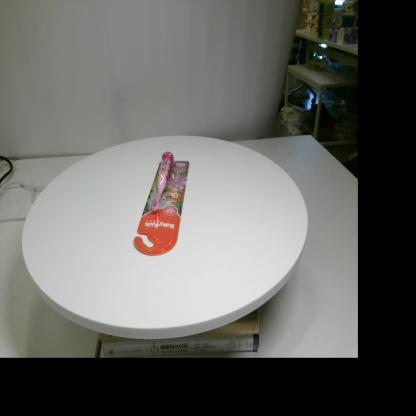Personal Hygiene: (134, 151, 190, 256)
